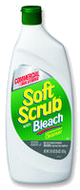grozi_84: (5, 4, 76, 187)
